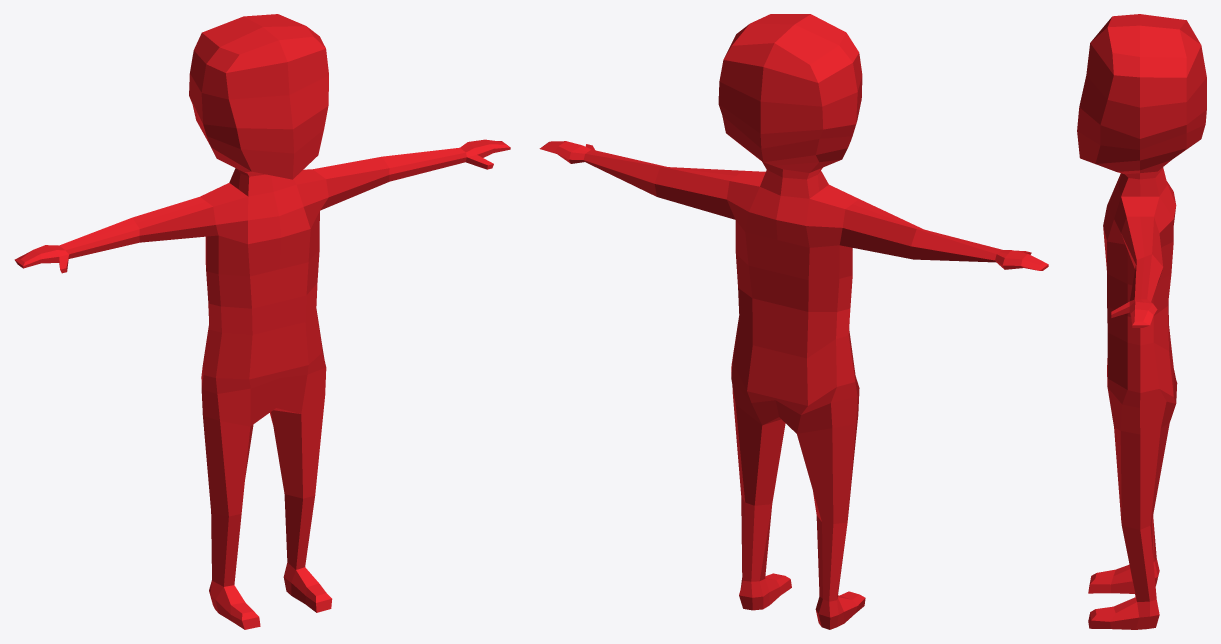
The model's file is LowPolyCharacter.fbx.
3 renders of one model, left to right at view 1: azimuth 30°, elevation 25°; view 2: azimuth 150°, elevation 25°; view 3: azimuth 270°, elevation 25°, orthographic. The views are drawn at different scales.
Visible parts, largest first — view 1: LowPolyCharacter; view 2: LowPolyCharacter; view 3: LowPolyCharacter.
Part boxes in pixels (<box>): LowPolyCharacter: <box>14,14,510,629</box>; LowPolyCharacter: <box>539,14,1048,629</box>; LowPolyCharacter: <box>1077,14,1206,629</box>.
Size of the model in its own units: 5.21 by 5.87 by 1.19.
